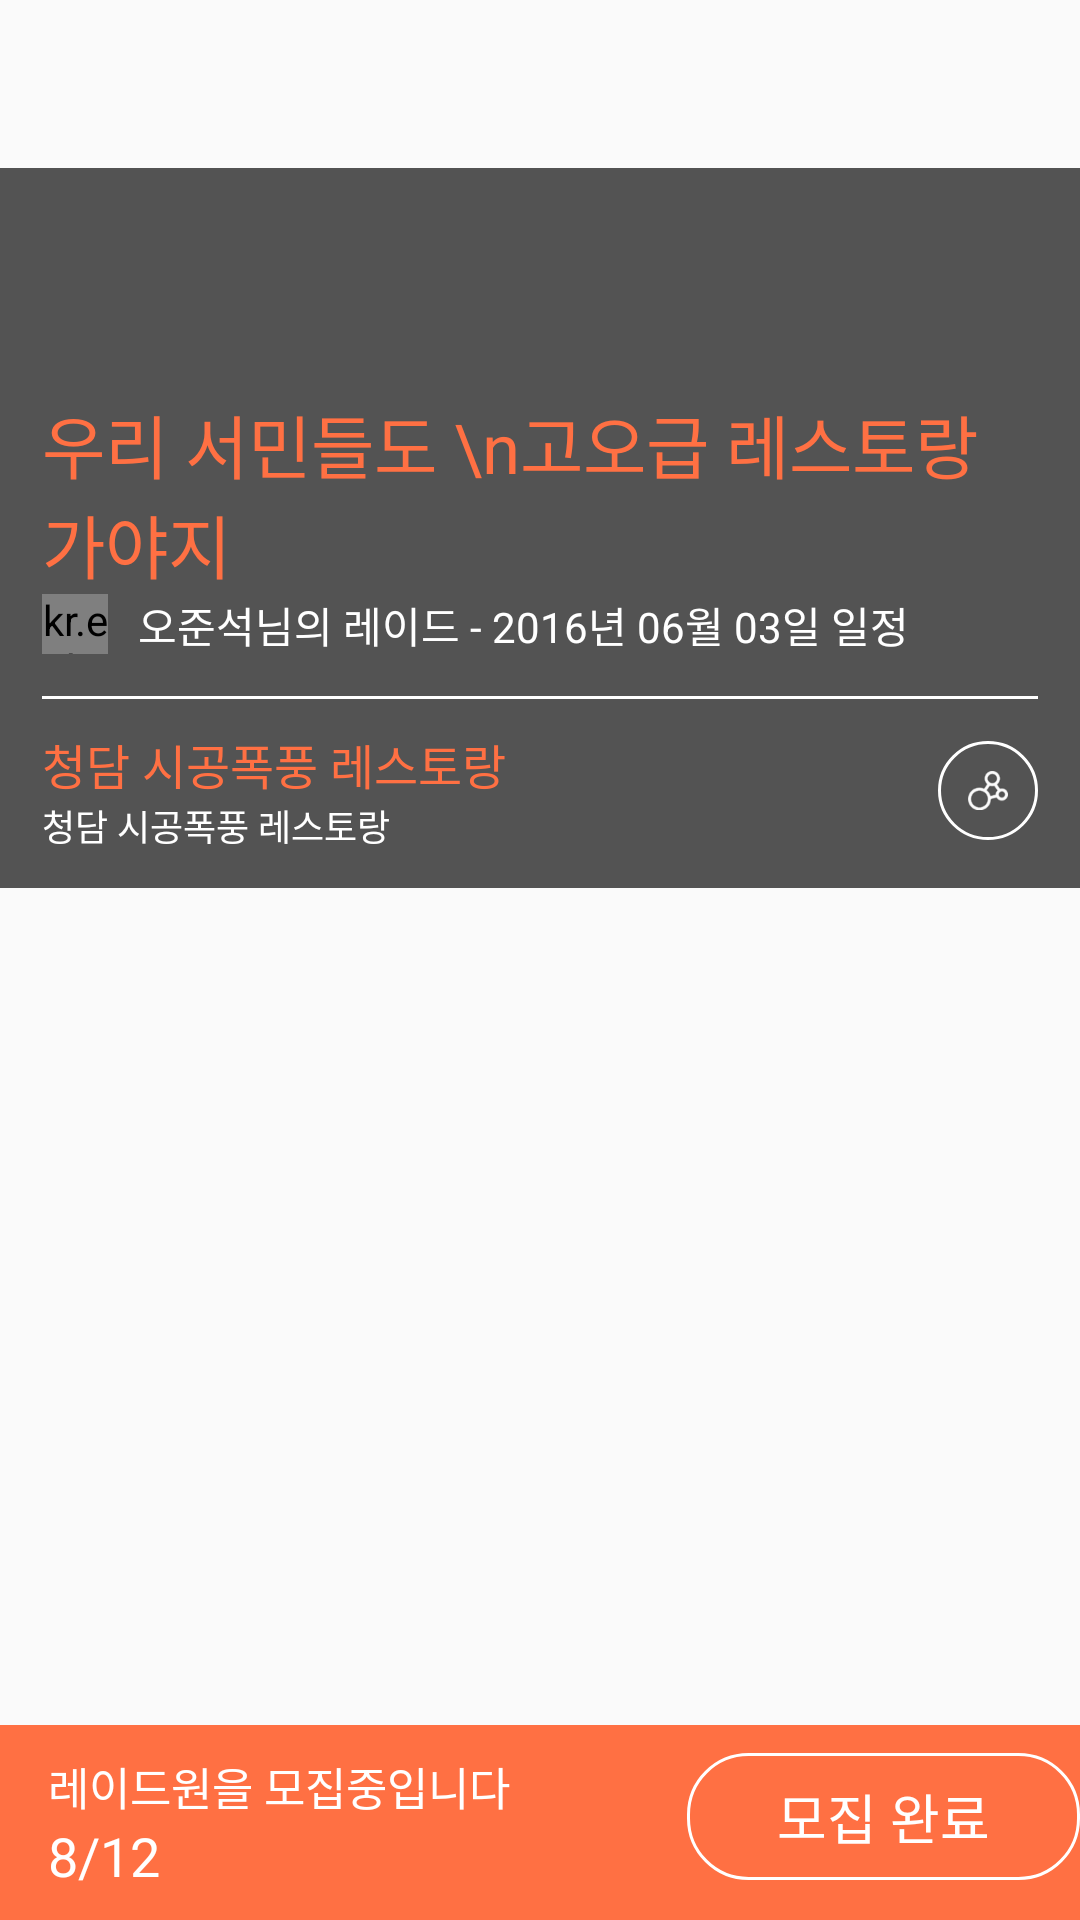

Icons on this 1080 x 1920 Android screen, each with the point to tap as (x=x, y=y):
raidlist share: (x=988, y=790)
